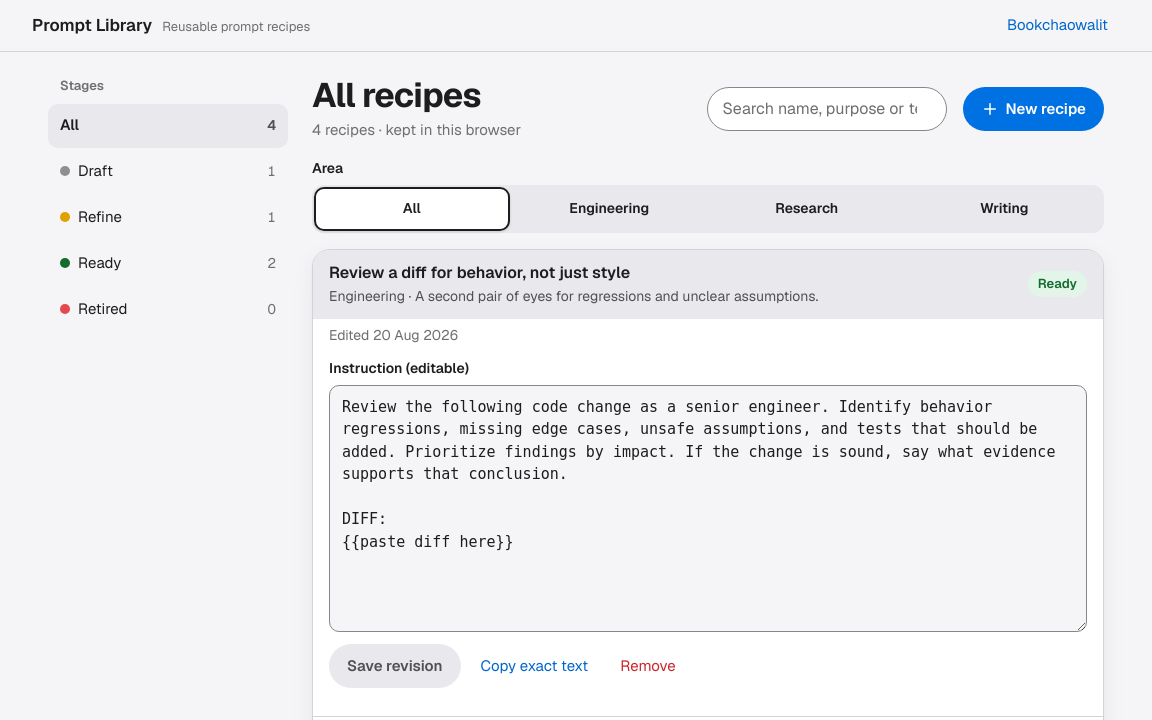
Test: recipe detail › consecutive removes restore together with one Undo
Step 1. Click the button "Remove" → (648, 666), box [608,644,688,688]
Wait 4000 ms
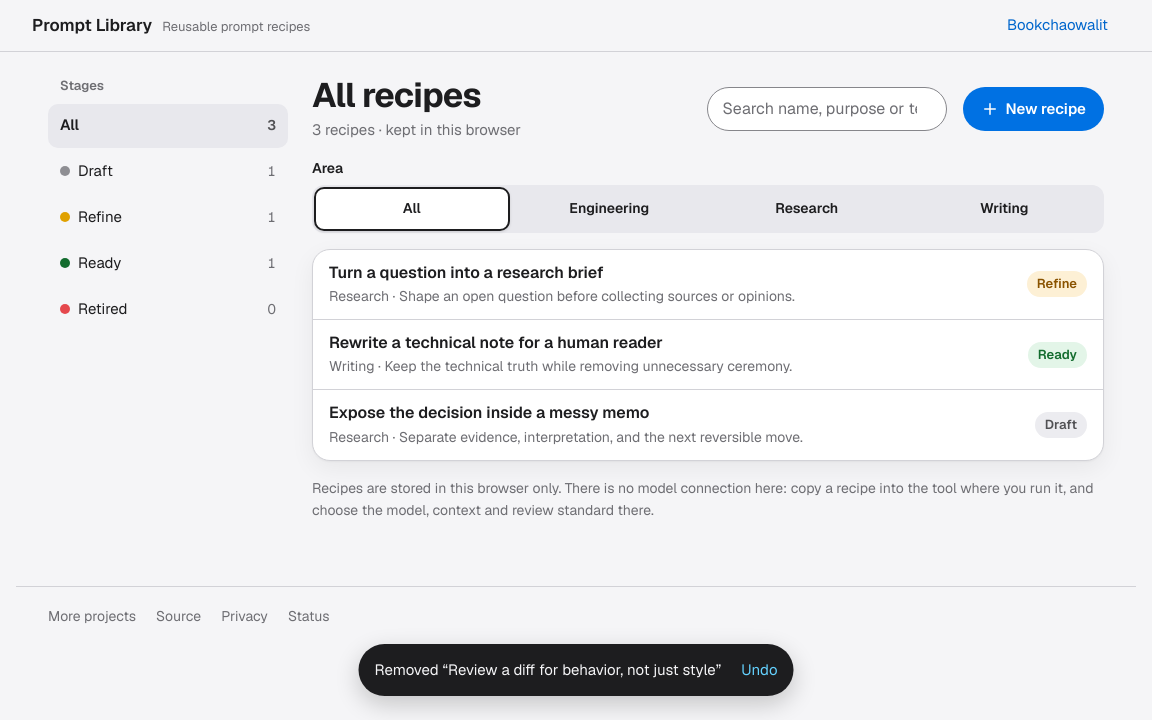
Step 2. Click the 2nd button with class "pl-row-head" → (708, 355), box [313,320,1103,389]
(page scrolled)
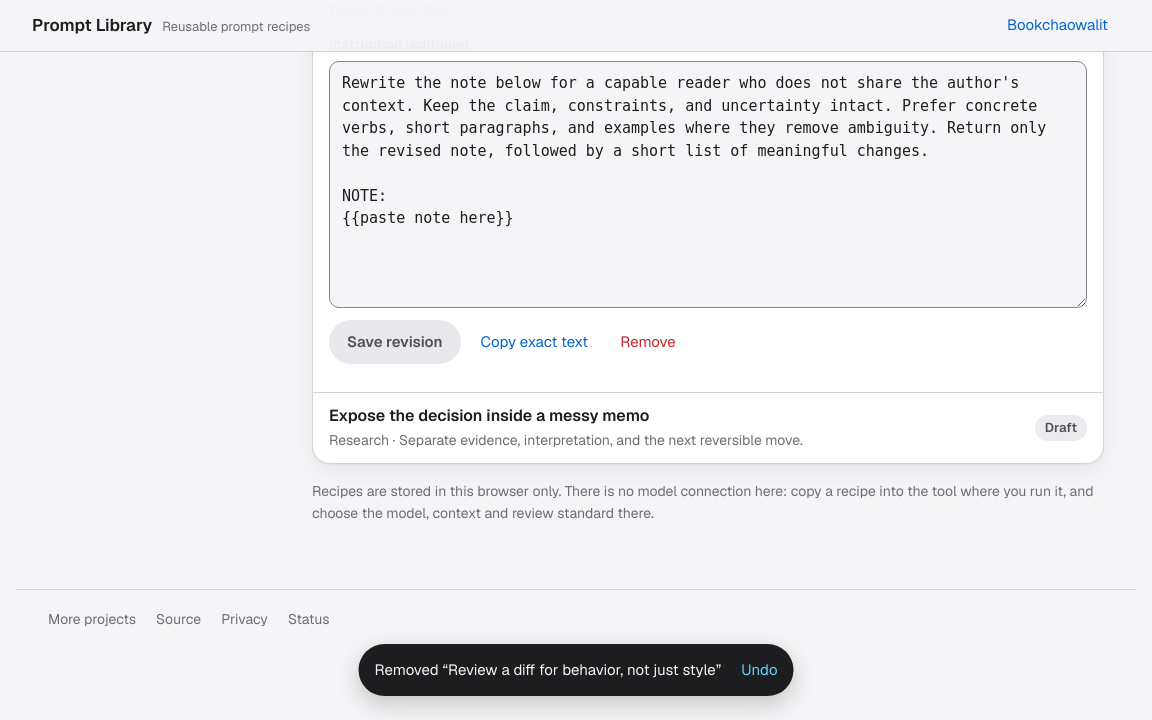
Step 3. Click the button "Remove" → (648, 342), box [608,320,688,364]
Wait 4000 ms
(page scrolled)
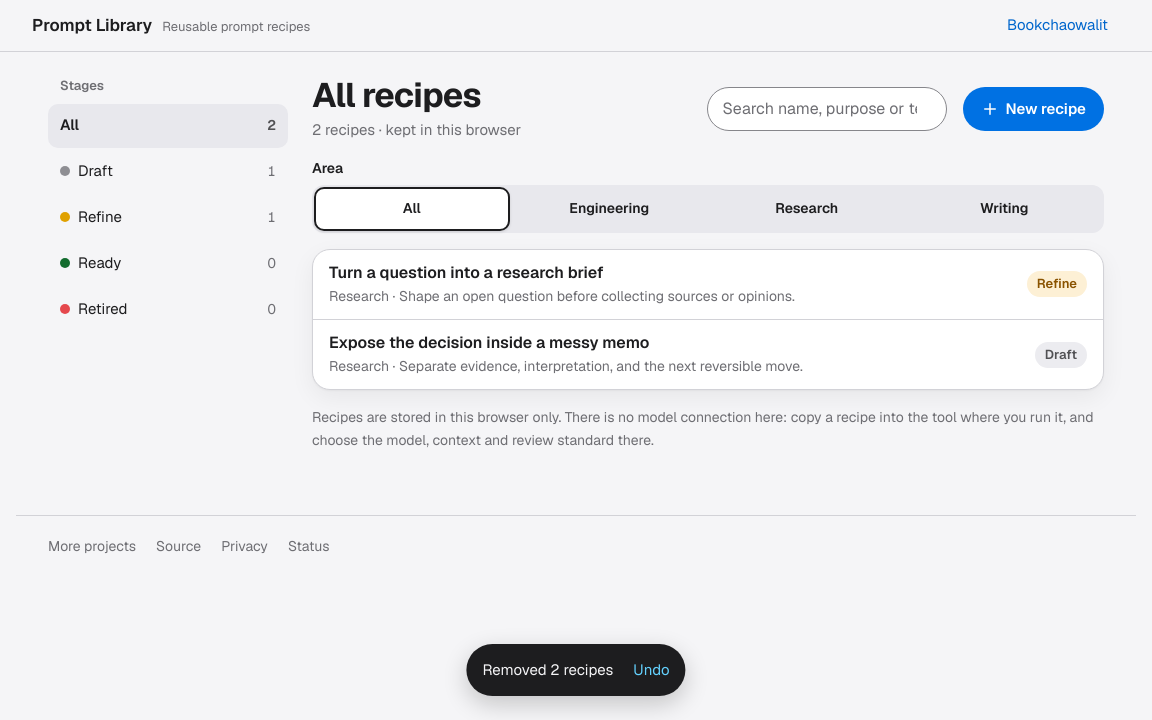
Now the text "Removed 2 recipes" is shown, box [482,659,613,681]
Step 4. Click the button "Undo" → (652, 670), box [621,648,682,692]
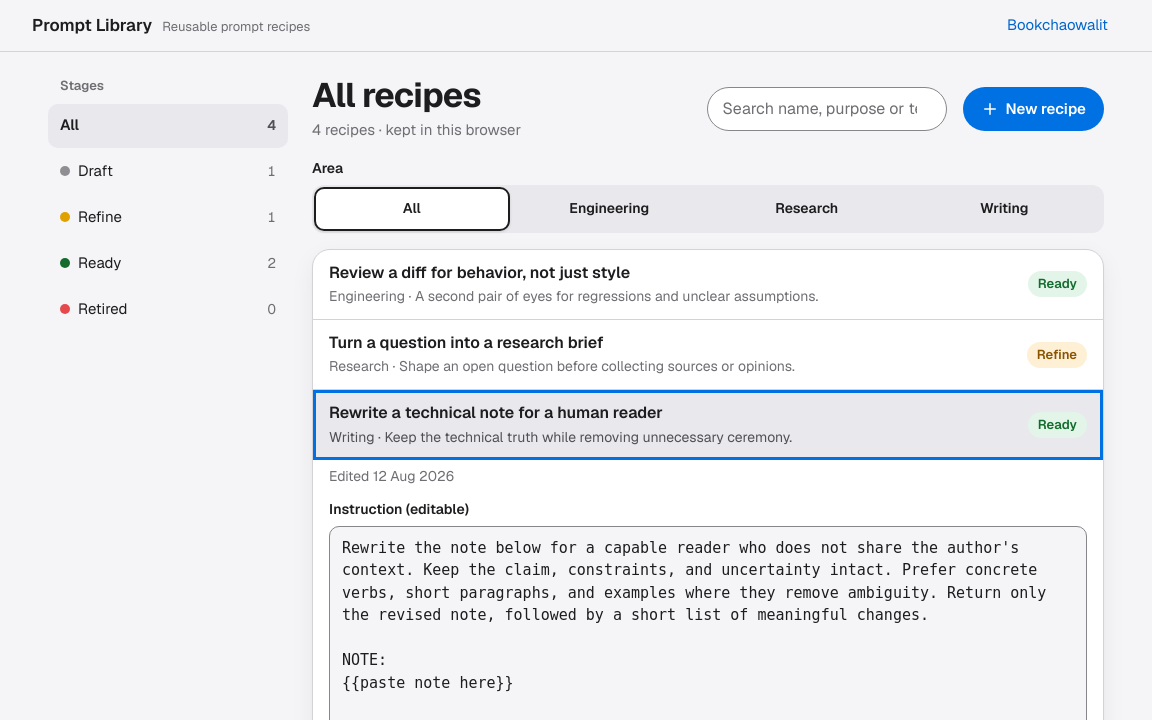
Now the element with class "as-toast" is gone
